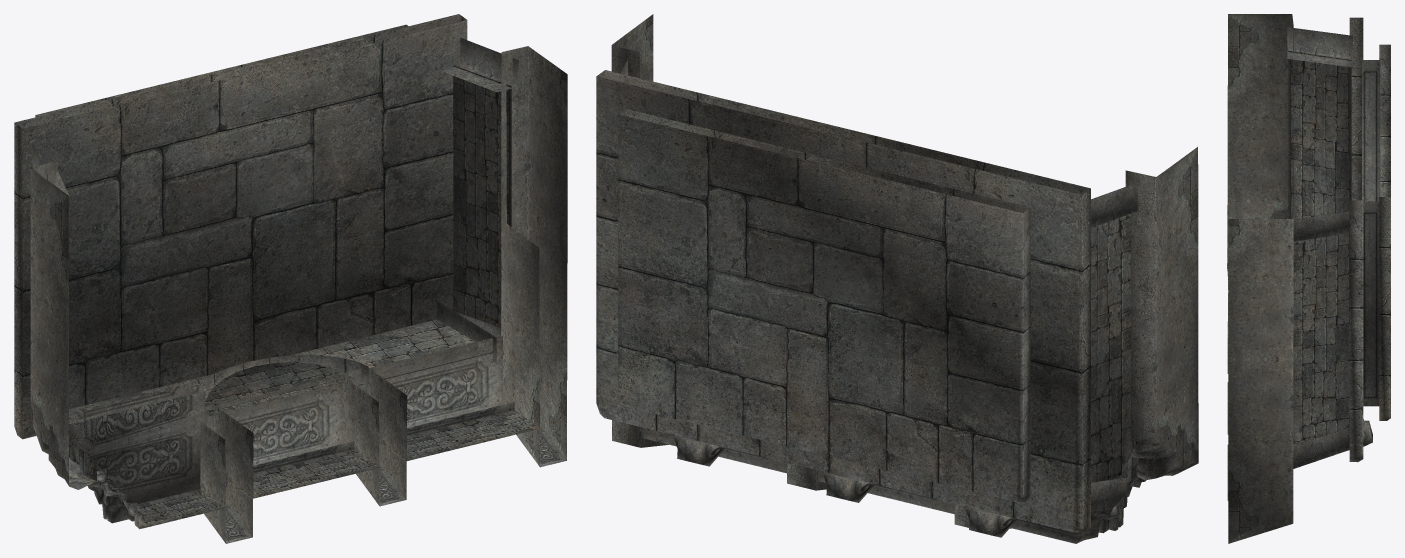
File: tieqiang004.FBX
3 renders of one model, left to right at view 1: azimuth 30°, elevation 25°; view 2: azimuth 150°, elevation 25°; view 3: azimuth 270°, elevation 25°, orthographic. The views are drawn at different scales.
Parts seen in each view (by area): view 1: ID_Bossroom03_Altar; view 2: ID_Bossroom03_Altar; view 3: ID_Bossroom03_Altar.
Part boxes in pixels (x1,y1,x2,y2): ID_Bossroom03_Altar: (14,14,567,543); ID_Bossroom03_Altar: (596,14,1198,543); ID_Bossroom03_Altar: (1227,14,1390,543).
Size of the model in its own units: 582 by 440 by 197.
1 material, 1 textured.
